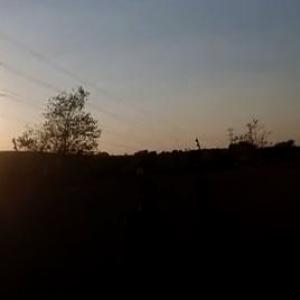follow: (119, 173, 181, 299)
